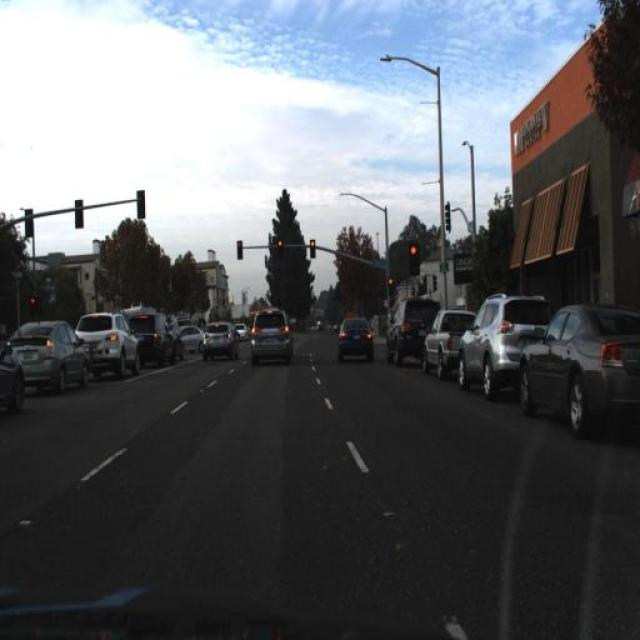car: (515, 300, 639, 430), (457, 284, 548, 396), (5, 313, 94, 402), (72, 308, 148, 387), (419, 302, 479, 380), (384, 294, 440, 364), (132, 310, 182, 368), (248, 303, 292, 367), (335, 309, 376, 367), (198, 316, 238, 363)
trafficLight-RedLeft: (408, 240, 421, 279), (272, 234, 286, 262), (234, 237, 247, 265), (307, 234, 318, 262), (386, 270, 396, 300)
